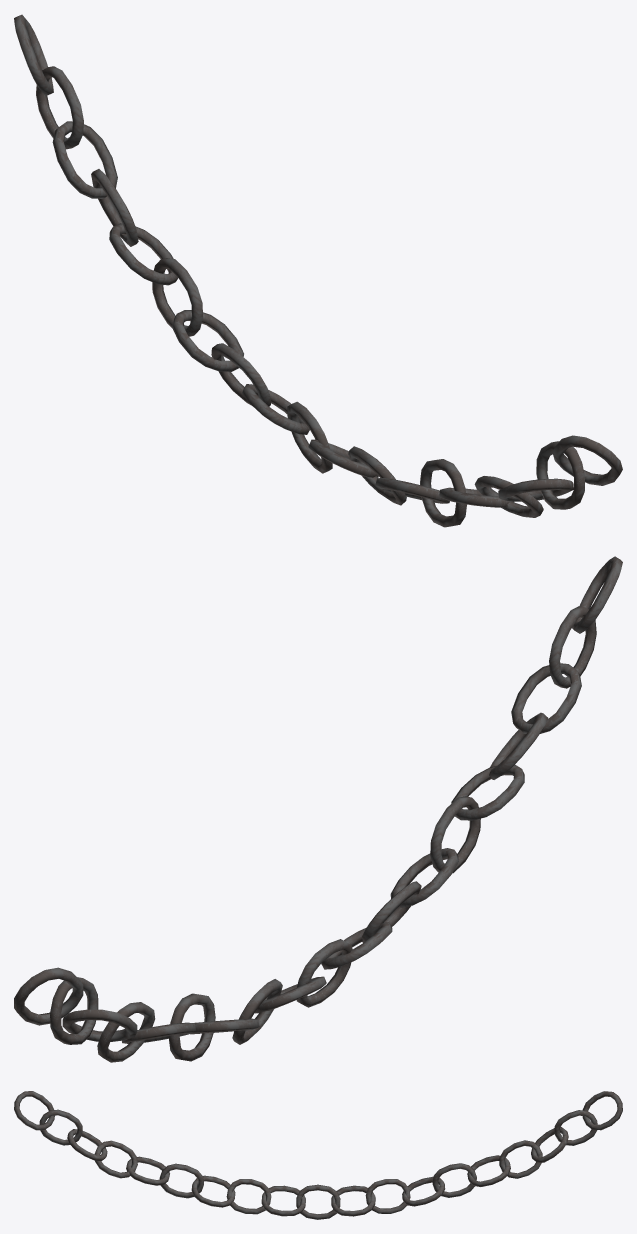
Rendered from Prop_ChainHanging1.fbx.
3 renders of one model, top to bottom at view 1: azimuth 30°, elevation 25°; view 2: azimuth 150°, elevation 25°; view 3: azimuth 270°, elevation 25°, orthographic. The views are drawn at different scales.
Visible parts, largest first — view 1: CDTMesh_ChainHanging1; view 2: CDTMesh_ChainHanging1; view 3: CDTMesh_ChainHanging1.
Boxes of the visible parts, x1,y1,x2,y2 form: CDTMesh_ChainHanging1: (14, 14, 622, 527); CDTMesh_ChainHanging1: (14, 556, 622, 1062); CDTMesh_ChainHanging1: (14, 1091, 622, 1219).
Size of what is drawn, in the model's own units: 0.265 by 1.04 by 4.58.
Materials: 1 (1 with a texture image).
